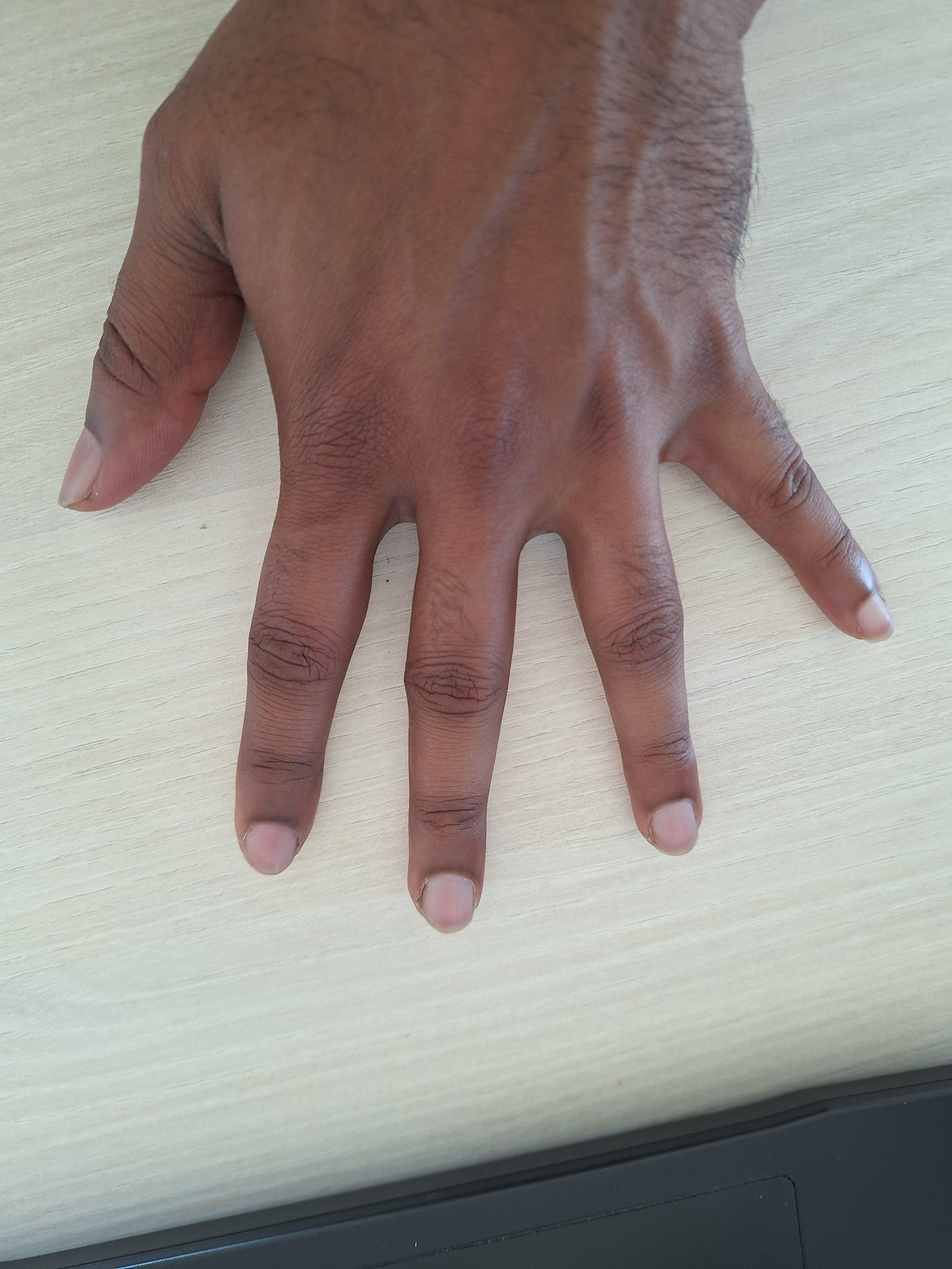Fingernail: (57, 424, 101, 505), (422, 875, 474, 934), (243, 824, 297, 875), (650, 800, 699, 856), (857, 592, 896, 643)
